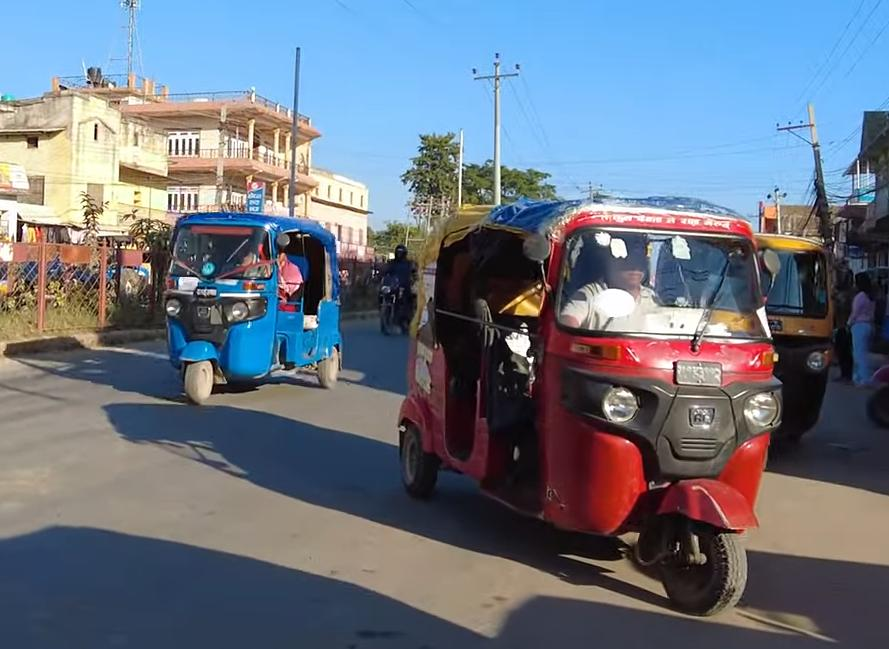auto_rickshaw: (390, 198, 785, 623), (155, 208, 348, 408), (749, 223, 835, 457)
